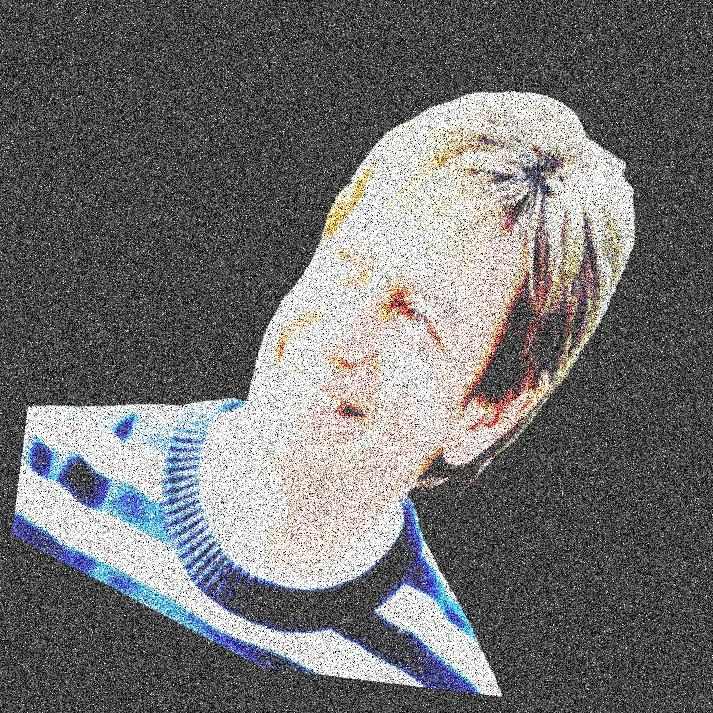Pessoa: (240, 0, 572, 712)
